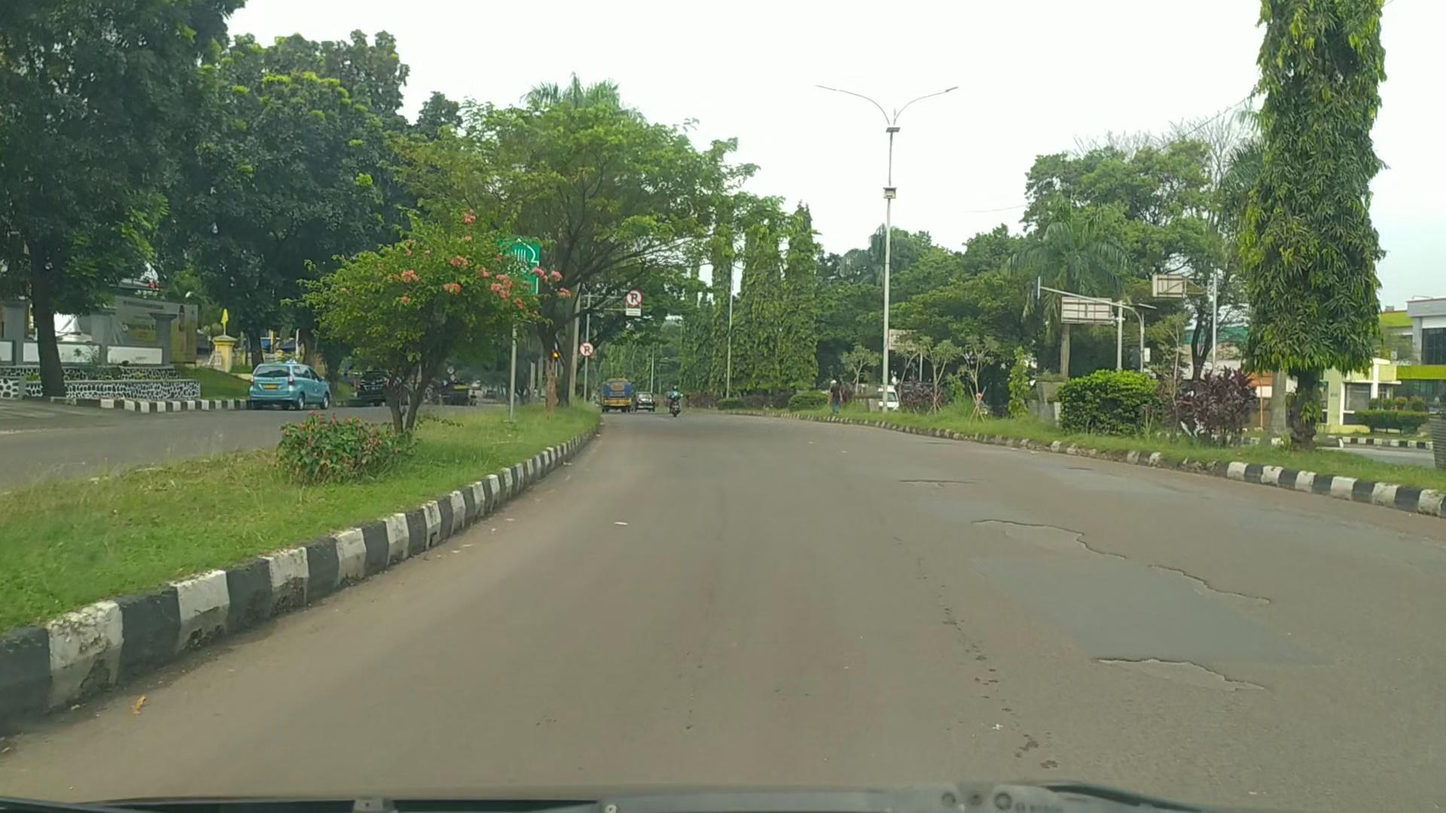pothole: (1092, 654, 1266, 693), (970, 519, 1127, 560), (1147, 562, 1274, 603), (899, 479, 975, 488)
